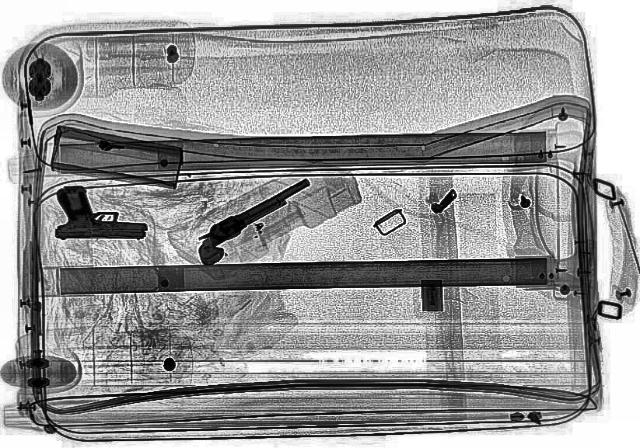Gun: (174, 175, 330, 267), (41, 180, 155, 244)
